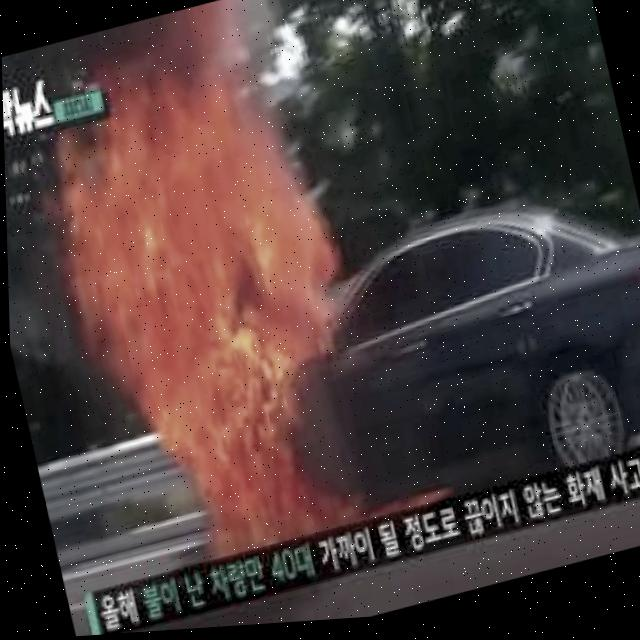Fire: (30, 52, 471, 593), (92, 0, 288, 116)
